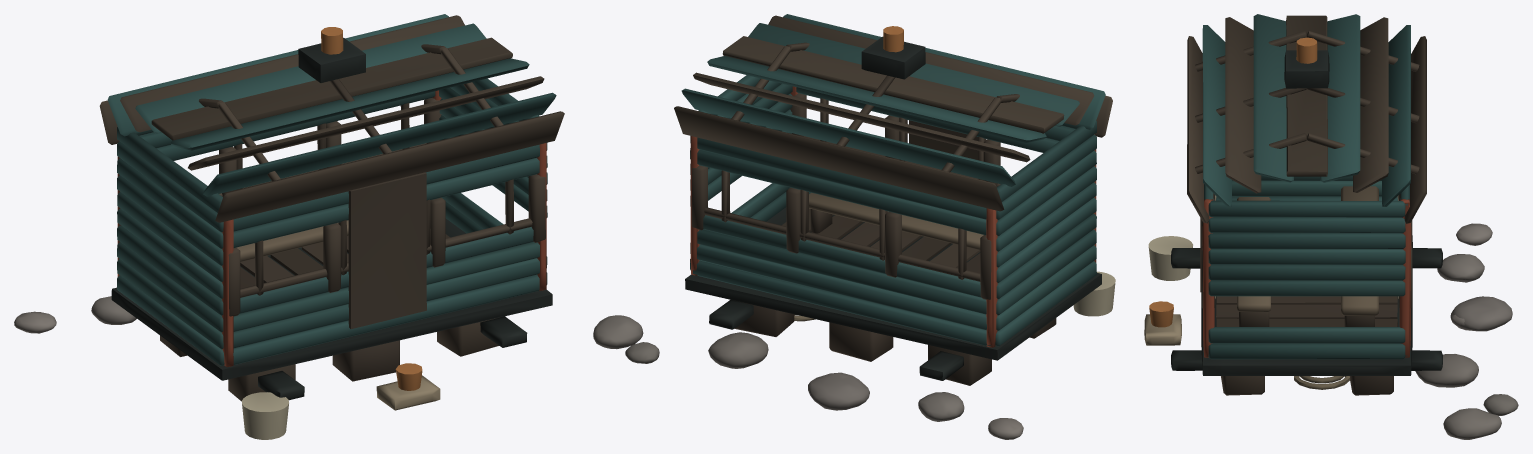
Rendered from tram_car_parked_b_lod1.glb.
The picture shows the model from 3 angles, left to right: view 1: azimuth 30°, elevation 25°; view 2: azimuth 150°, elevation 25°; view 3: azimuth 270°, elevation 25°; orthographic projection. The views are drawn at different scales.
Parts seen in each view (by area): view 1: Surface.001; view 2: Surface.001; view 3: Surface.001.
Boxes of the visible parts, <box> form: Surface.001: <box>14,14,564,439</box>; Surface.001: <box>593,14,1115,439</box>; Surface.001: <box>1144,14,1518,439</box>.
Size of the model in its own units: 6.53 by 4.38 by 4.95.
